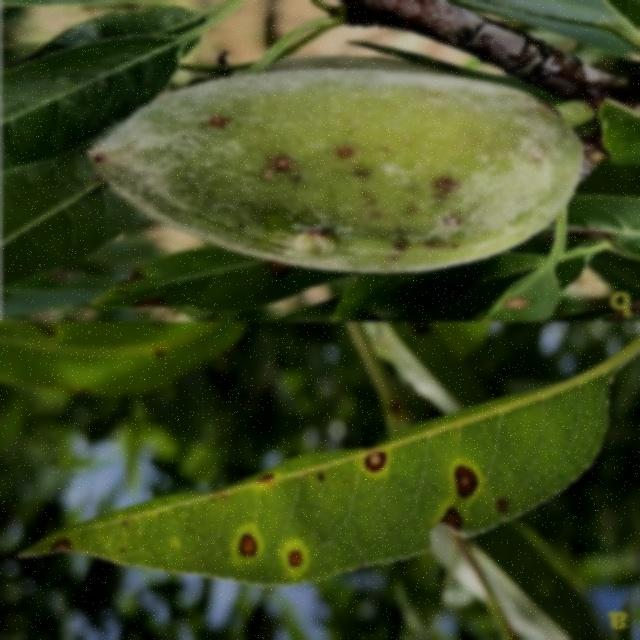leaf_spot: (5, 321, 633, 609)
